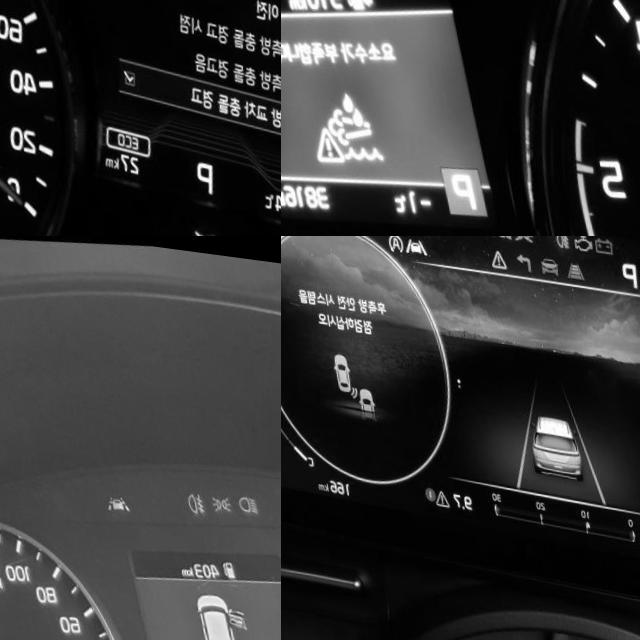Central Warning lamp: (485, 238, 503, 258), (422, 481, 438, 499)
FrontFogLight: (179, 481, 200, 506)
LaneCenteringOff: (99, 487, 124, 507), (399, 236, 423, 246)
Low beam: (230, 482, 254, 504)
SideLamp: (176, 220, 207, 236), (204, 483, 226, 504)
